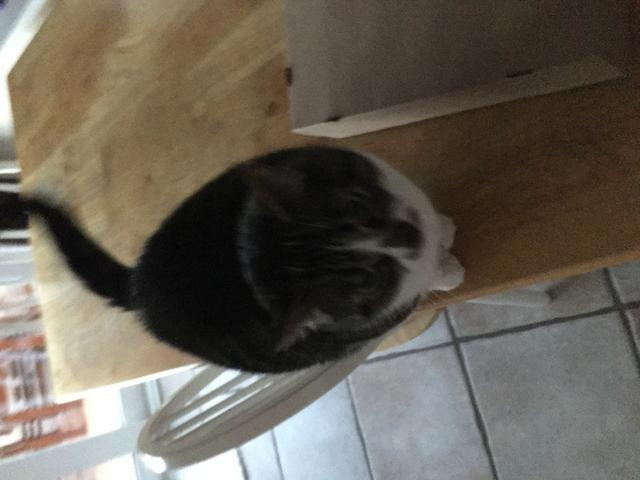playdoh: (1, 142, 466, 372)
